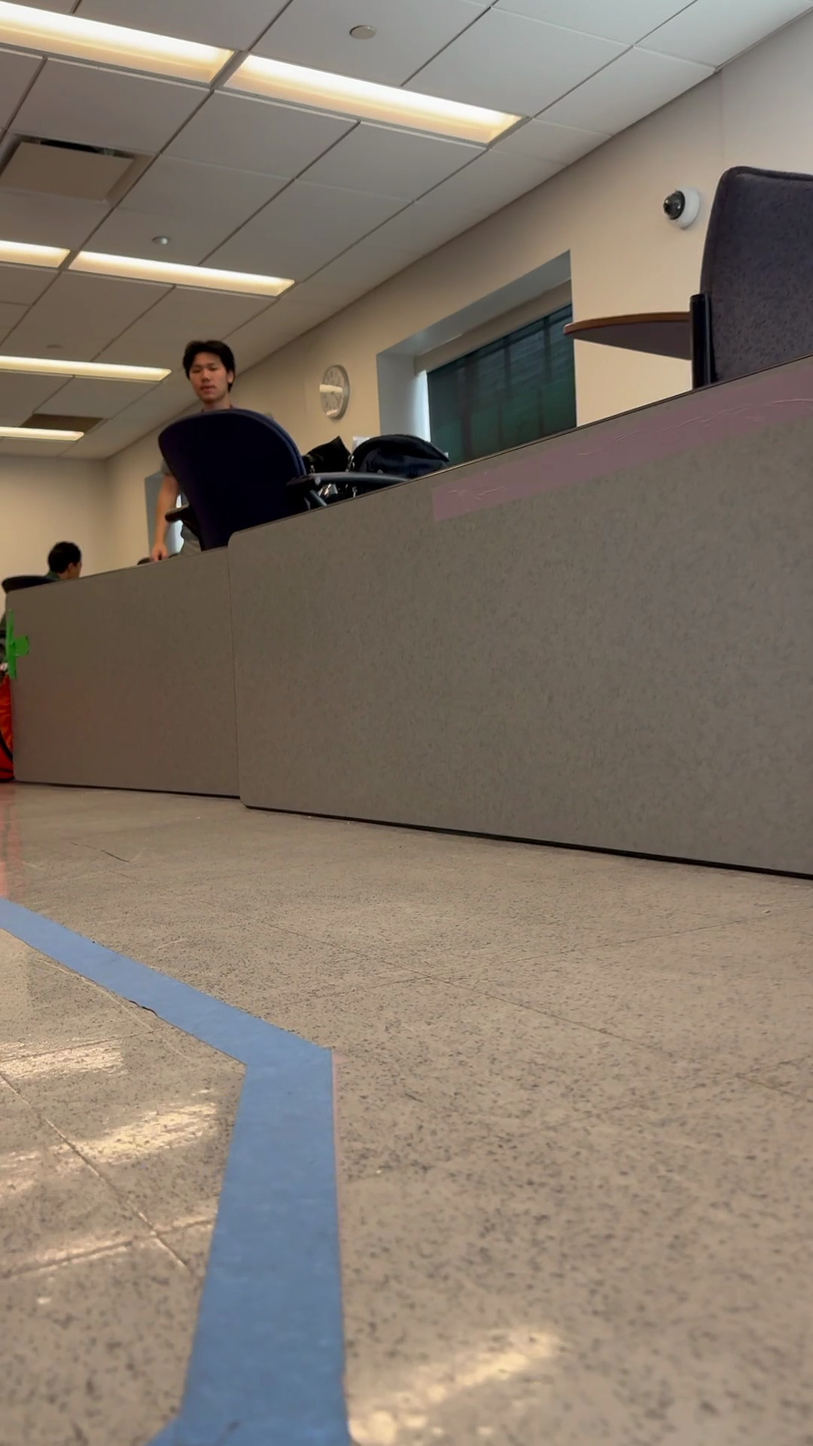racecar: (155, 411, 458, 553), (280, 430, 451, 516)
